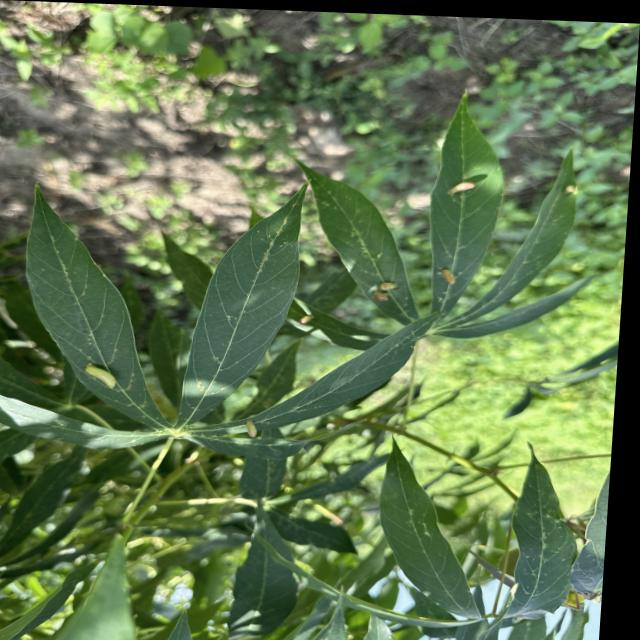Mosca: (347, 254, 397, 314), (204, 404, 273, 446), (432, 159, 485, 209), (414, 249, 467, 299), (66, 352, 129, 394), (555, 165, 587, 200), (298, 302, 329, 337)
